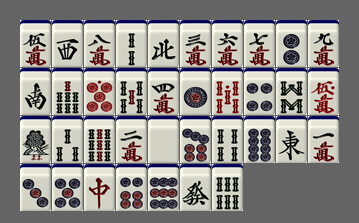0m: (308, 68, 339, 115)
0p: (84, 68, 115, 115)
0s: (212, 68, 243, 115)
1m: (308, 116, 339, 163)
1p: (180, 68, 211, 115)
1s: (20, 116, 51, 163)
1z: (276, 116, 307, 163)
2m: (116, 116, 147, 163)
2p: (276, 20, 307, 67)
2s: (116, 20, 147, 67)
2z: (20, 68, 51, 115)
3m: (180, 20, 211, 67)
3p: (20, 164, 51, 211)
3s: (52, 116, 83, 163)
3z: (52, 20, 83, 67)
4m: (148, 68, 179, 115)
4p: (244, 68, 275, 115)
4s: (212, 116, 243, 163)
4z: (148, 20, 179, 67)
5m: (20, 20, 51, 67)
5p: (52, 164, 83, 211)
5s: (116, 68, 147, 115)
5z: (148, 116, 179, 163)
6m: (212, 20, 243, 67)
6p: (116, 164, 147, 211)
6s: (212, 164, 243, 211)
6z: (180, 164, 211, 211)
7m: (244, 20, 275, 67)
7p: (180, 116, 211, 163)
7s: (52, 68, 83, 115)
7z: (84, 164, 115, 211)
8m: (84, 20, 115, 67)
8p: (244, 116, 275, 163)
8s: (276, 68, 307, 115)
9m: (308, 20, 339, 67)
9p: (148, 164, 179, 211)
9s: (84, 116, 115, 163)
